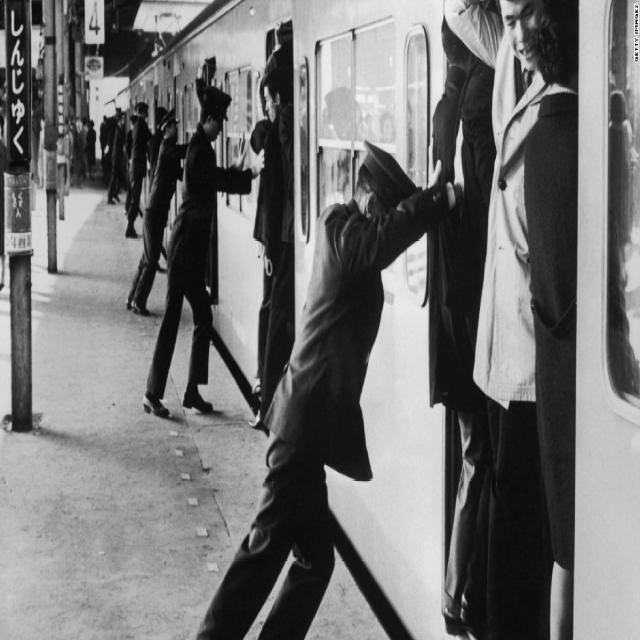body: (193, 136, 466, 638), (523, 0, 636, 640), (440, 0, 551, 640), (190, 16, 294, 438), (141, 81, 267, 422), (422, 14, 486, 631), (124, 106, 188, 316), (600, 66, 640, 401), (30, 103, 122, 196), (125, 100, 154, 240), (0, 107, 13, 300), (146, 105, 170, 196), (106, 110, 128, 206), (124, 112, 139, 217)
